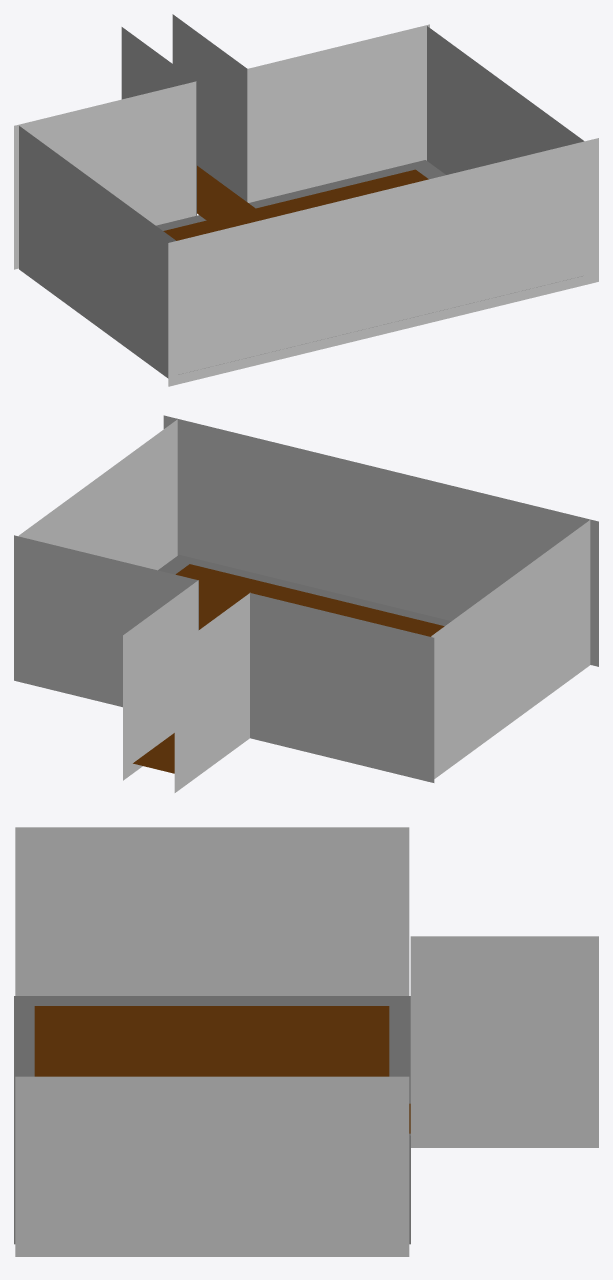
The model's file is KudaKepang_Scene_00.fbx.
The picture shows the model from 3 angles, top to bottom: view 1: azimuth 30°, elevation 25°; view 2: azimuth 150°, elevation 25°; view 3: azimuth 270°, elevation 25°; orthographic projection. The views are drawn at different scales.
Parts seen in each view (by area): view 1: Plane.009, Plane.006, Plane, Plane.005, Plane.004, Plane.007, Stage__1_, Plane.008, Ground, walkway; view 2: Plane.009, Plane.005, Plane, Plane.006, Plane.004, Plane.008, Plane.007, Stage__1_, Ground, walkway; view 3: Plane.004, Plane, Plane.007, Stage__1_, Ground, Plane.008.
Boxes of the visible parts, x1,y1,x2,y2 form: Plane.009: (168, 138, 598, 386); Plane.006: (247, 24, 429, 202); Plane: (19, 126, 175, 378); Plane.005: (14, 81, 196, 269); Plane.004: (427, 26, 584, 174); Plane.007: (172, 14, 247, 202); Stage__1_: (163, 169, 428, 240); Plane.008: (121, 27, 196, 215); Ground: (156, 160, 582, 374); walkway: (197, 165, 255, 220); Plane.009: (163, 415, 598, 666); Plane.005: (250, 593, 434, 782); Plane: (431, 520, 590, 778); Plane.006: (14, 535, 198, 707); Plane.004: (19, 419, 177, 570); Plane.008: (174, 592, 250, 792); Plane.007: (123, 580, 198, 780); Stage__1_: (175, 564, 444, 636); Ground: (158, 555, 451, 626); walkway: (133, 733, 174, 773); Plane.004: (15, 1076, 409, 1256); Plane: (15, 827, 409, 995); Plane.007: (410, 967, 598, 1147); Stage__1_: (34, 1006, 389, 1076); Ground: (14, 996, 410, 1244); Plane.008: (410, 936, 598, 967).
Bounding box in the file's own units: 3503 × 1118 × 3290.
